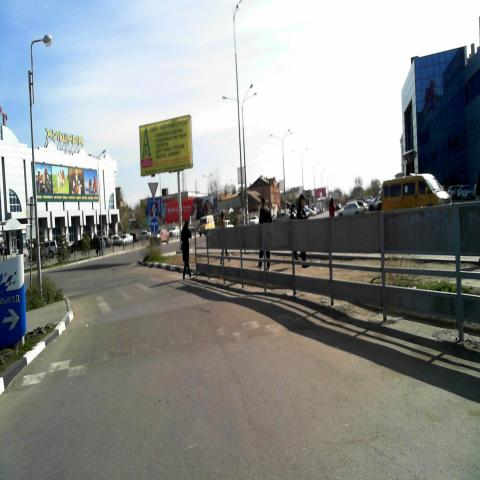4_1_6: (150, 218, 159, 232)
